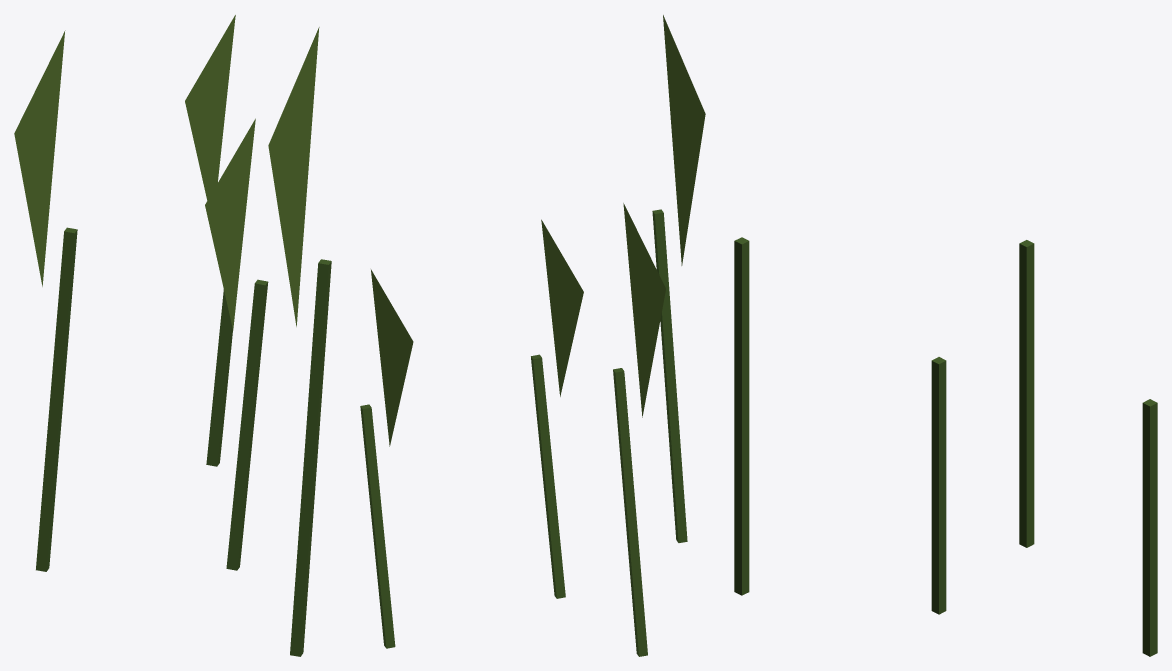
The model's file is reeds-far.glb.
The picture shows the model from 3 angles, left to right: view 1: azimuth 30°, elevation 25°; view 2: azimuth 150°, elevation 25°; view 3: azimuth 270°, elevation 25°; orthographic projection. The views are drawn at different scales.
Visible parts, largest first — view 1: reeds-far; view 2: reeds-far; view 3: reeds-far.
Part boxes in pixels (box(x1,y1,x2,y2)): reeds-far: box(14, 15, 331, 656); reeds-far: box(360, 15, 705, 656); reeds-far: box(734, 237, 1157, 656).
Bounding box in the file's own units: 1.06 × 2.1 × 1.37.
